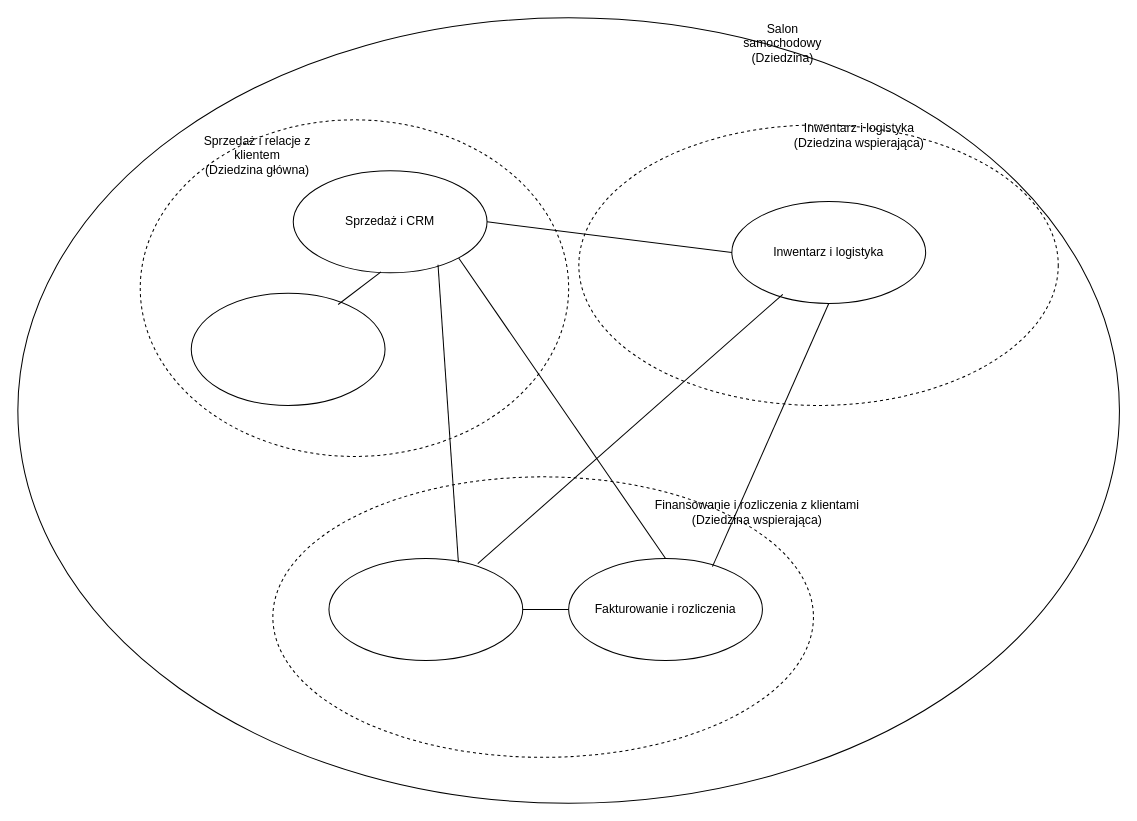
This 1137x821 diagram has some shape labels left out. Here are the shapes that lost their labels. From the top down, the centre of each, then its label:
At point 287,348: "Katalog i konfigurator".
At point 425,608: "Finansowanie".
